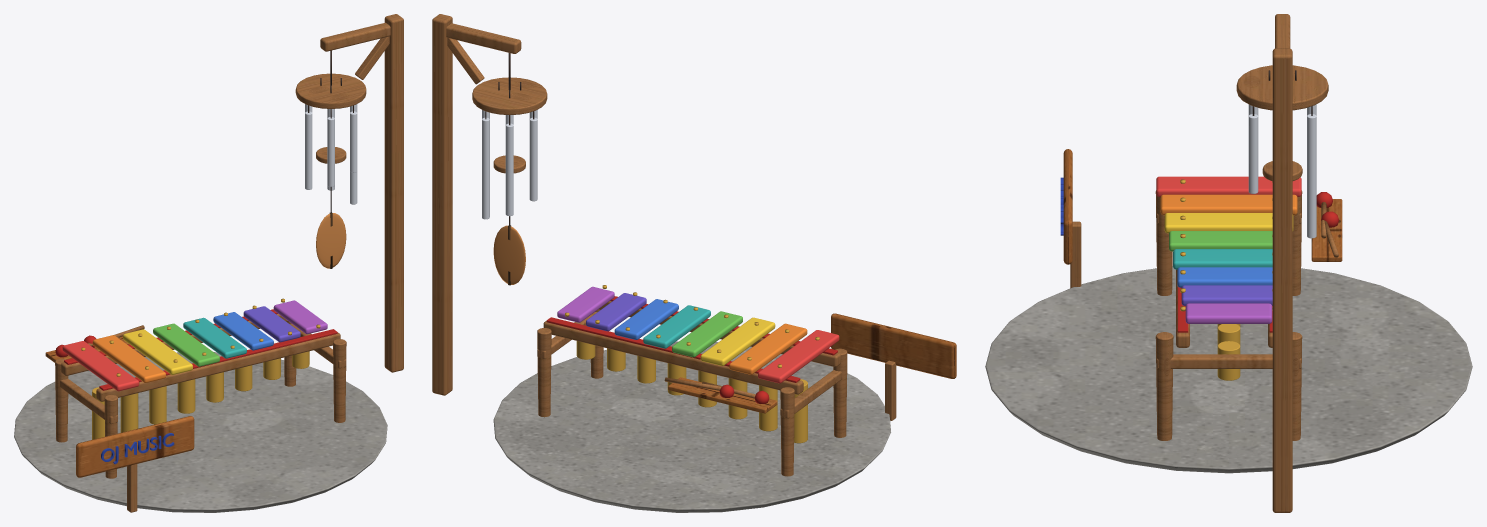
The model's file is musicnook.glb.
3 renders of one model, left to right at view 1: azimuth 30°, elevation 25°; view 2: azimuth 150°, elevation 25°; view 3: azimuth 270°, elevation 25°, orthographic. The views are drawn at different scales.
Visible parts, largest first — view 1: mn_pad, ch_post, mn_sign, xy_rail, ch_top, bar0, bar1, bar2, ch_sail, bar3, bar4, bar5 (+19 smaller); view 2: mn_pad, ch_post, mn_sign, xy_rail.001, ch_top, bar0, bar1, bar2, bar3, ch_sail, bar4, bar5 (+14 smaller); view 3: mn_pad, ch_post, ch_top, bar1, bar0, bar2, bar4, bar3, bar7, bar5, xy_leg.002, bar6 (+11 smaller).
Boxes of the visible parts, bbox=[...] form: mn_pad: bbox=[14, 352, 387, 512]; ch_post: bbox=[384, 14, 403, 372]; mn_sign: bbox=[76, 416, 194, 477]; xy_rail: bbox=[96, 332, 340, 401]; ch_top: bbox=[295, 73, 366, 108]; bar0: bbox=[62, 341, 139, 391]; bar1: bbox=[92, 335, 165, 382]; bar2: bbox=[123, 329, 192, 374]; ch_sail: bbox=[316, 213, 346, 268]; bar3: bbox=[153, 323, 219, 366]; bar4: bbox=[183, 317, 246, 358]; bar5: bbox=[213, 312, 273, 350]; mn_pad: bbox=[493, 341, 890, 512]; ch_post: bbox=[432, 14, 452, 395]; mn_sign: bbox=[831, 313, 956, 378]; xy_rail.001: bbox=[543, 321, 803, 394]; ch_top: bbox=[472, 77, 547, 114]; bar0: bbox=[758, 330, 839, 383]; bar1: bbox=[729, 323, 807, 374]; bar2: bbox=[700, 317, 775, 365]; bar3: bbox=[672, 311, 742, 357]; ch_sail: bbox=[493, 225, 525, 284]; bar4: bbox=[643, 305, 710, 348]; bar5: bbox=[614, 299, 678, 339]; mn_pad: bbox=[985, 266, 1472, 473]; ch_post: bbox=[1272, 48, 1292, 512]; ch_top: bbox=[1236, 65, 1328, 110]; bar1: bbox=[1160, 194, 1297, 215]; bar0: bbox=[1156, 176, 1301, 196]; bar2: bbox=[1164, 213, 1293, 233]; bar4: bbox=[1173, 249, 1272, 269]; bar3: bbox=[1169, 231, 1272, 251]; bar7: bbox=[1185, 303, 1272, 323]; bar5: bbox=[1177, 267, 1272, 287]; xy_leg.002: bbox=[1155, 332, 1173, 440]; bar6: bbox=[1181, 285, 1272, 305].
Bounding box in the file's own units: 3.99 × 3.3 × 3.18.
18 materials, 3 textured.
